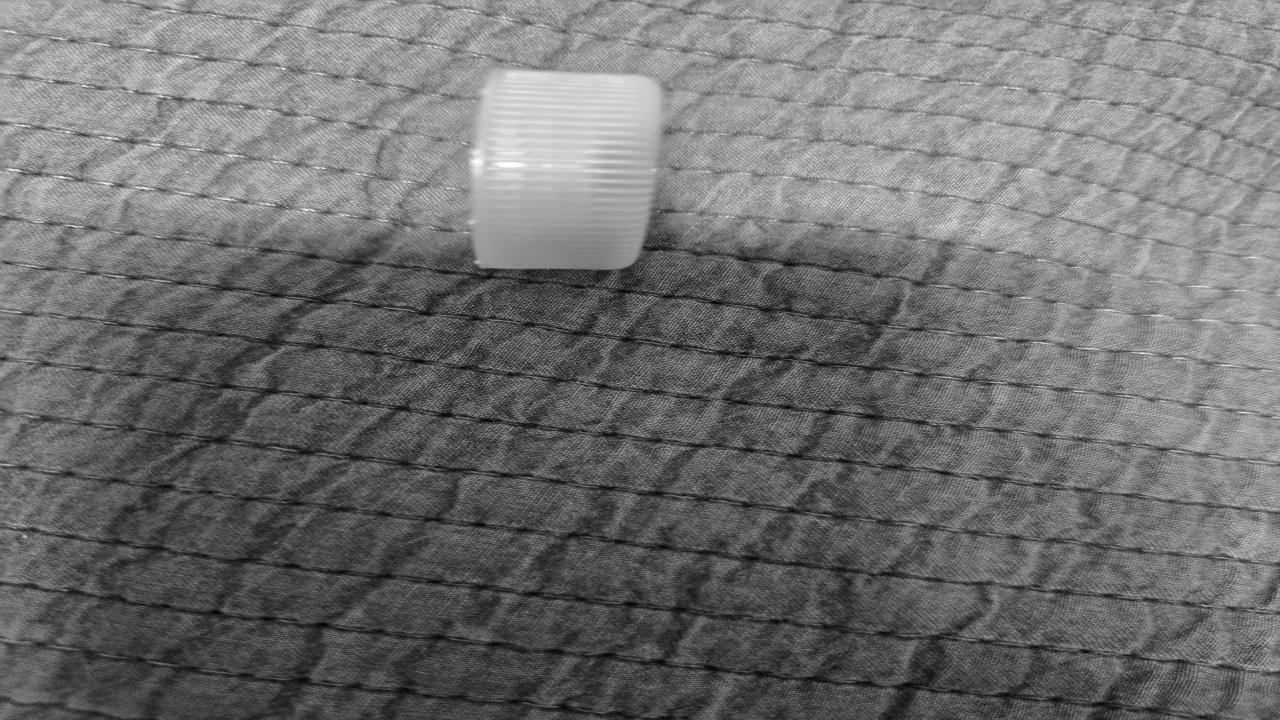bottle_cap: (463, 68, 674, 275)
